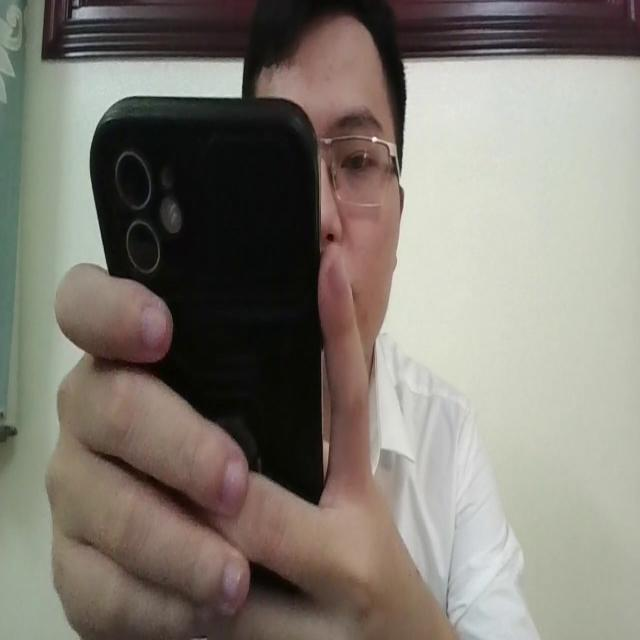phone: (88, 86, 348, 519)
student: (39, 0, 540, 640)
